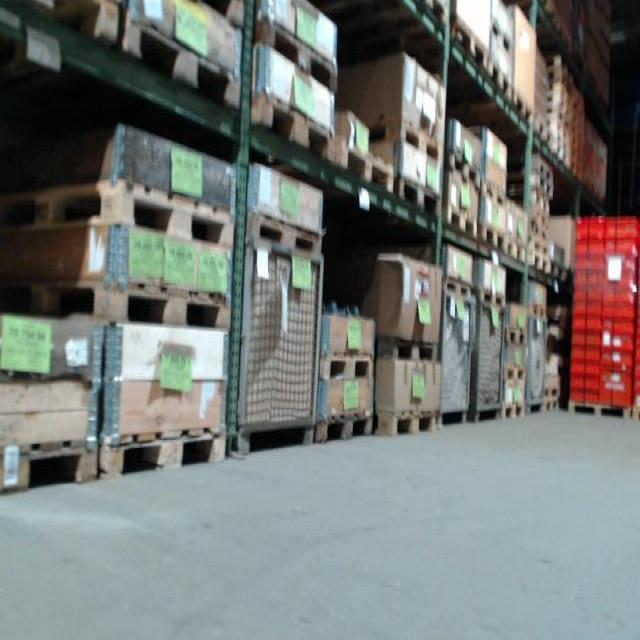pallet: (0, 177, 235, 252), (1, 273, 232, 335), (119, 5, 244, 112), (99, 423, 227, 482), (250, 91, 340, 166), (253, 15, 337, 93), (0, 436, 94, 496), (14, 0, 117, 53), (358, 112, 444, 165), (335, 136, 395, 196), (246, 208, 322, 255), (390, 173, 442, 219), (450, 13, 489, 74), (313, 408, 375, 446), (374, 406, 438, 438), (375, 335, 442, 363), (318, 351, 374, 384), (444, 149, 483, 190), (566, 401, 632, 423), (442, 204, 479, 241), (410, 0, 449, 33), (487, 56, 513, 103), (477, 222, 509, 254), (489, 15, 514, 54), (511, 90, 534, 128), (481, 180, 507, 209), (442, 274, 472, 297), (500, 362, 527, 385), (500, 399, 526, 421), (474, 286, 504, 305), (506, 239, 527, 263), (503, 325, 525, 347), (529, 302, 547, 320), (531, 193, 552, 207), (533, 180, 556, 191), (542, 385, 560, 399), (535, 158, 553, 170), (543, 399, 562, 409), (532, 240, 549, 251), (535, 255, 548, 269), (531, 211, 549, 220), (532, 173, 552, 180), (530, 226, 544, 233), (530, 220, 549, 225), (531, 207, 552, 211), (532, 233, 544, 240), (531, 191, 556, 193)
small_load_carrier: (597, 365, 632, 409), (598, 332, 637, 351), (573, 235, 606, 254), (604, 216, 638, 234), (574, 217, 607, 234), (600, 353, 637, 368), (606, 234, 638, 251), (569, 331, 602, 347), (600, 317, 635, 332), (570, 387, 596, 407), (571, 286, 604, 301), (574, 269, 603, 286), (574, 254, 606, 269), (568, 317, 602, 331), (571, 301, 604, 315), (570, 360, 599, 375), (573, 347, 601, 362), (568, 375, 600, 388)
stillage: (232, 233, 334, 457), (426, 287, 478, 430), (471, 300, 513, 425), (521, 310, 554, 420)
